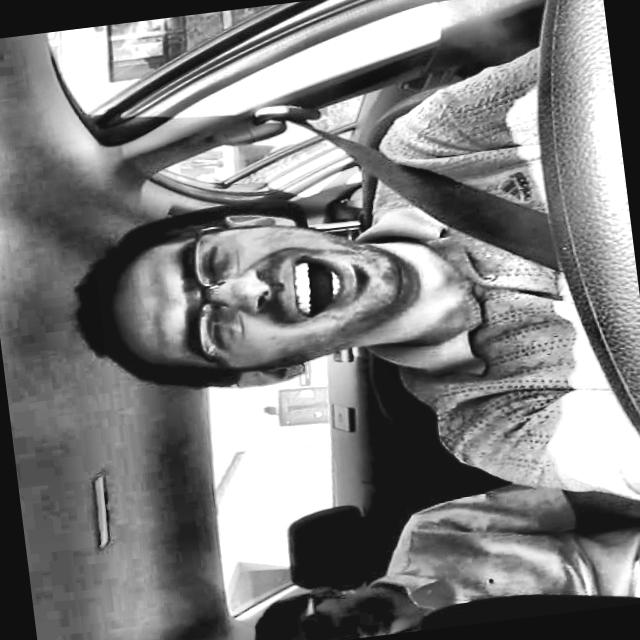closed_eyes: (194, 305, 246, 365), (182, 233, 237, 287)
open_mouth: (273, 238, 369, 331)
